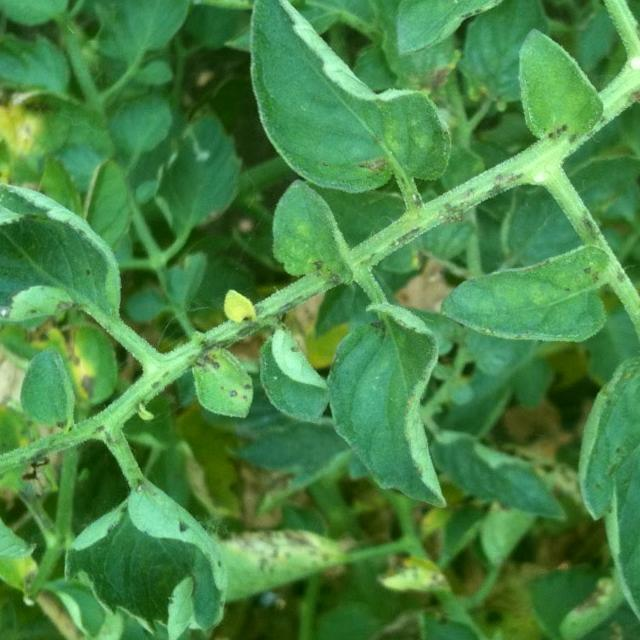Tomato leaf bacterial spot: (0, 71, 170, 381), (232, 0, 459, 197), (410, 232, 640, 373), (570, 314, 640, 640), (385, 0, 579, 59), (164, 338, 264, 437)
